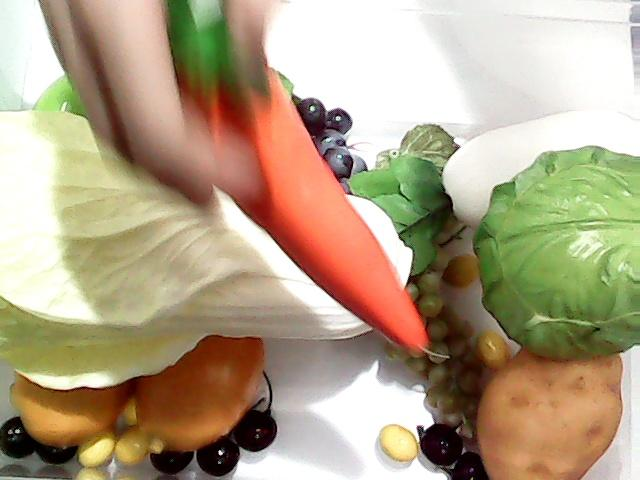apple: (32, 64, 92, 140)
cabbage: (478, 138, 638, 362)
carrot: (120, 1, 432, 357)
grape: (402, 242, 478, 470), (305, 98, 375, 170)
lemon: (122, 306, 286, 454), (9, 375, 120, 445)
napa cabbage: (3, 111, 404, 385)
potato: (473, 344, 623, 480)
radish: (348, 104, 640, 276)
